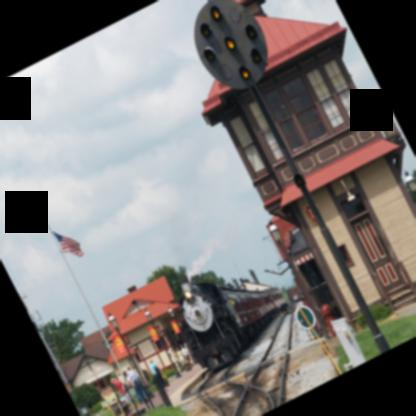handbag: (153, 366, 160, 372)
